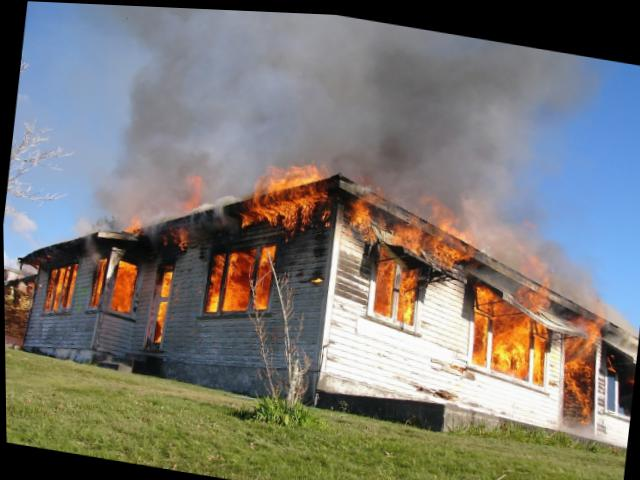fire: (8, 92, 634, 444)
